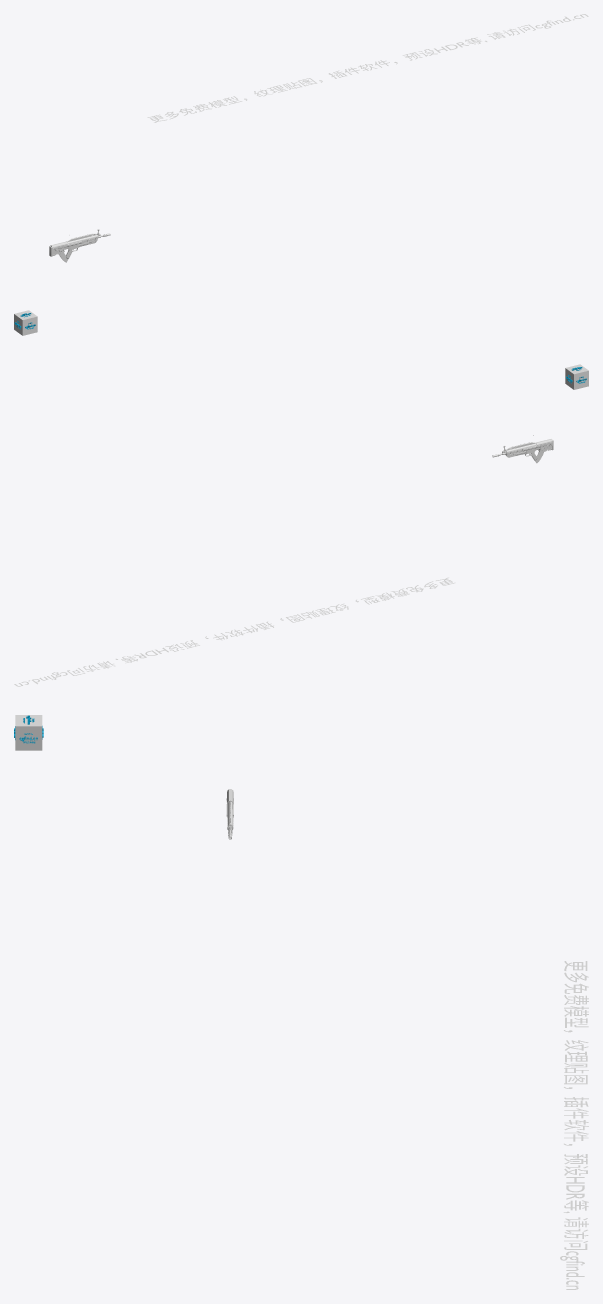
File: gun.fbx
3 renders of one model, top to bottom at view 1: azimuth 30°, elevation 25°; view 2: azimuth 210°, elevation 25°; view 3: azimuth 270°, elevation 25°, orthographic. The views are drawn at different scales.
Visible parts, largest first — view 1: '&I\x97F\x98A{\x02!\x99C(:e\x1c', '𐾱0sz9f[🨦\x87K>-'; view 2: '&I\x97F\x98A{\x02!\x99C(:e\x1c', '𐾱0sz9f[🨦\x87K>-'; view 3: '&I\x97F\x98A{\x02!\x99C(:e\x1c', '𐾱0sz9f[🨦\x87K>-'.
Boxes of the visible parts, left/top/right/bottom form: '&I\x97F\x98A{\x02!\x99C(:e\x1c': left=147, top=14, right=588, bottom=122; '𐾱0sz9f[🨦\x87K>-': left=14, top=310, right=37, bottom=335; '&I\x97F\x98A{\x02!\x99C(:e\x1c': left=14, top=577, right=455, bottom=686; '𐾱0sz9f[🨦\x87K>-': left=565, top=364, right=588, bottom=389; '&I\x97F\x98A{\x02!\x99C(:e\x1c': left=560, top=961, right=588, bottom=1289; '𐾱0sz9f[🨦\x87K>-': left=14, top=715, right=43, bottom=750.
Bounding box in the file's own units: 9912 × 357 × 4279.
